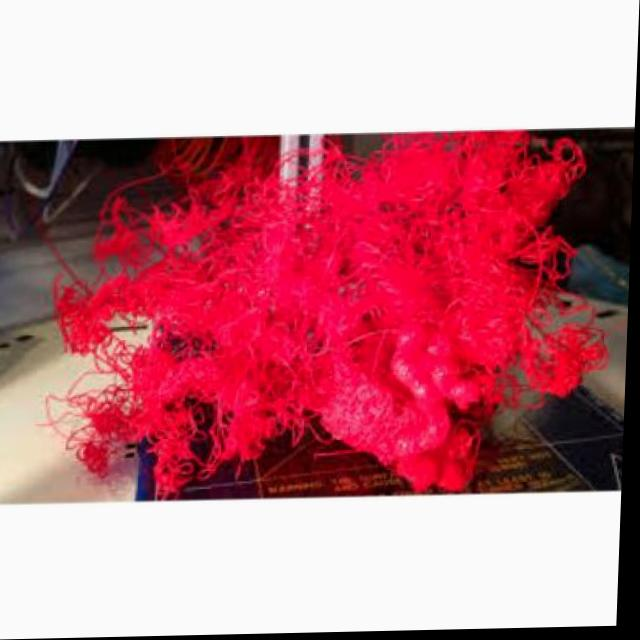spaghetti: (13, 107, 613, 494)
